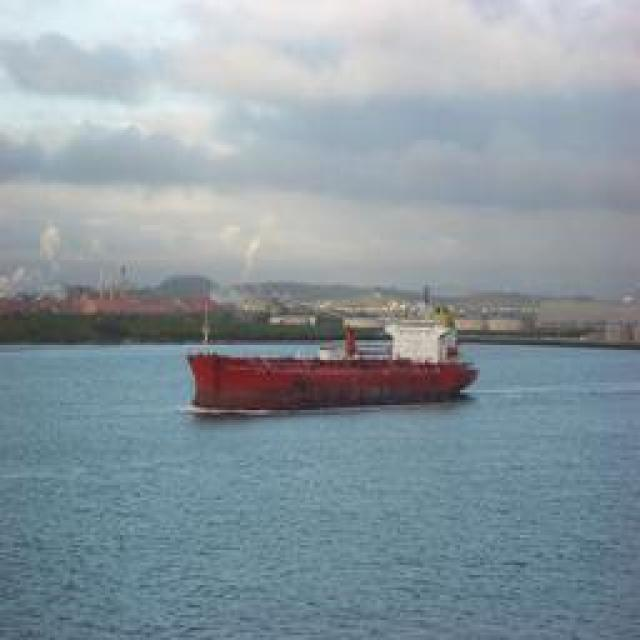ship2: (187, 285, 479, 410)
